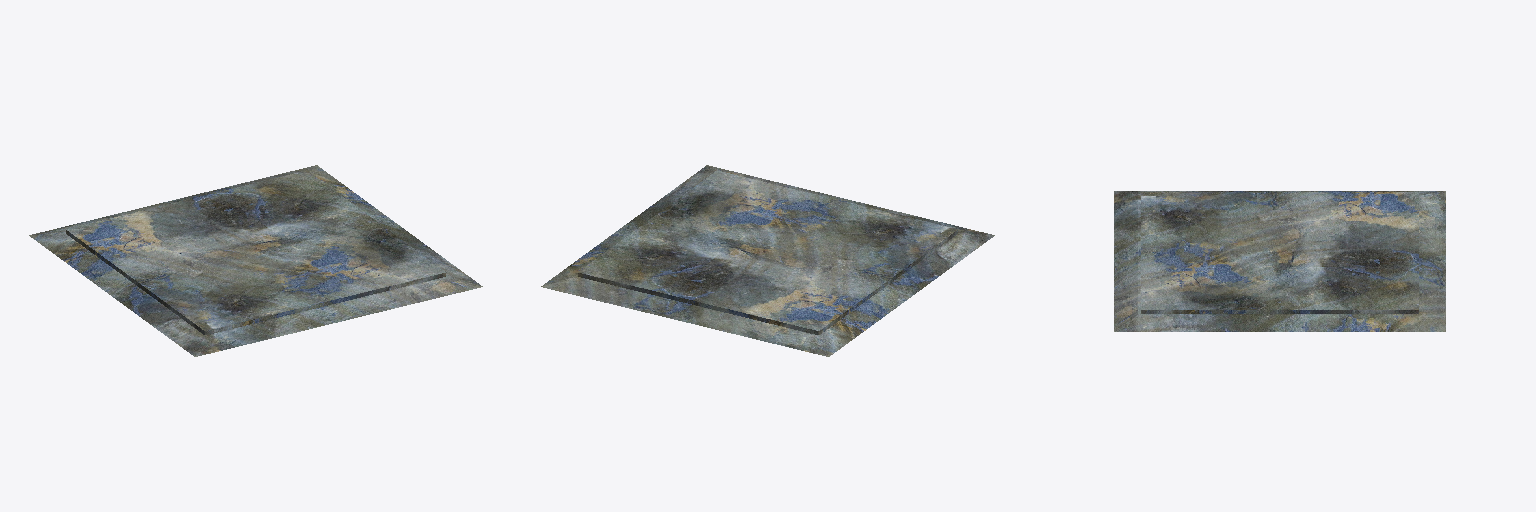
3 views of the same model, side by side, from view 1: azimuth 30°, elevation 25°; view 2: azimuth 150°, elevation 25°; view 3: azimuth 270°, elevation 25° (orthographic).
Parts seen in each view (by area): view 1: floor; view 2: floor; view 3: floor.
Boxes of the visible parts, x1=… form: floor: x1=29, y1=165, x2=482, y2=356; floor: x1=541, y1=165, x2=994, y2=356; floor: x1=1114, y1=191, x2=1445, y2=331.
Size of the model in its own units: 1 by 0.0342 by 1.
1 materials, 1 textured.